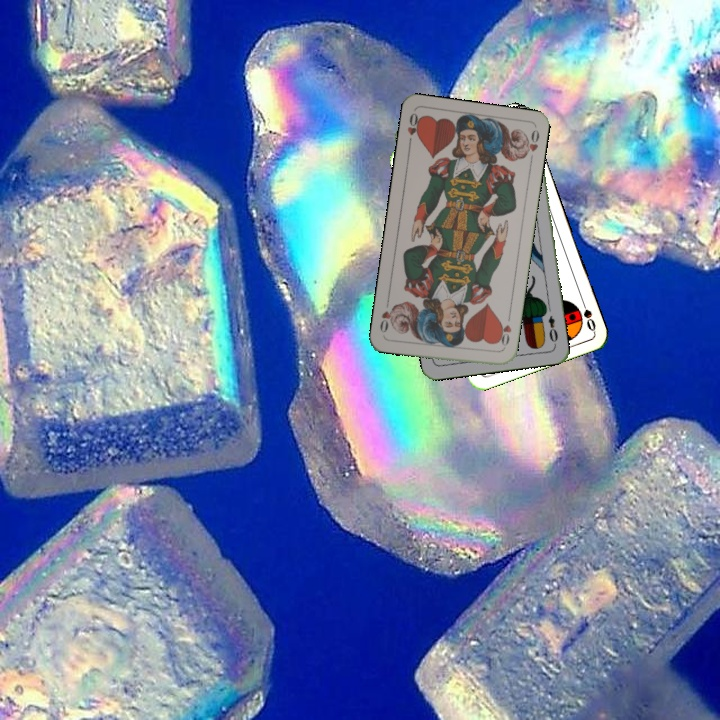EO: (544, 312, 561, 345)
HO: (403, 109, 424, 149), (494, 312, 514, 353)
SO: (577, 294, 598, 334)
